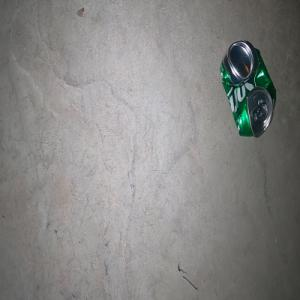SodaCan: (219, 39, 276, 137)
